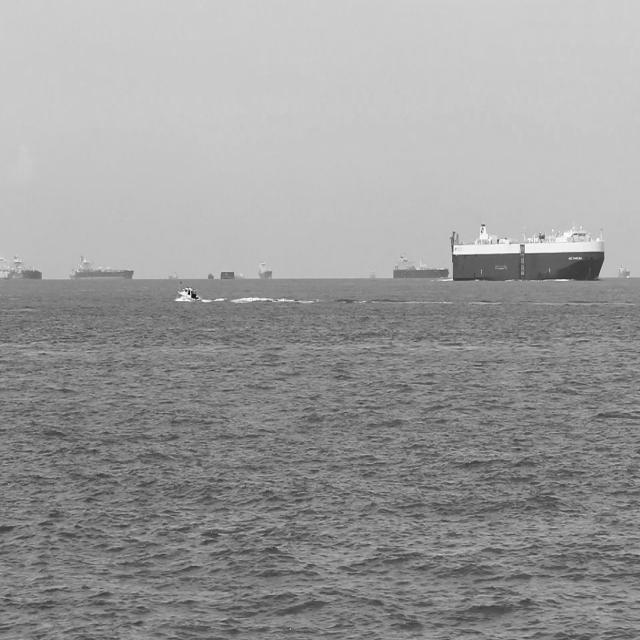ship: (449, 218, 606, 284), (61, 249, 136, 281), (387, 255, 451, 281), (0, 254, 47, 283), (175, 280, 206, 306), (252, 258, 272, 284), (612, 258, 630, 284)
